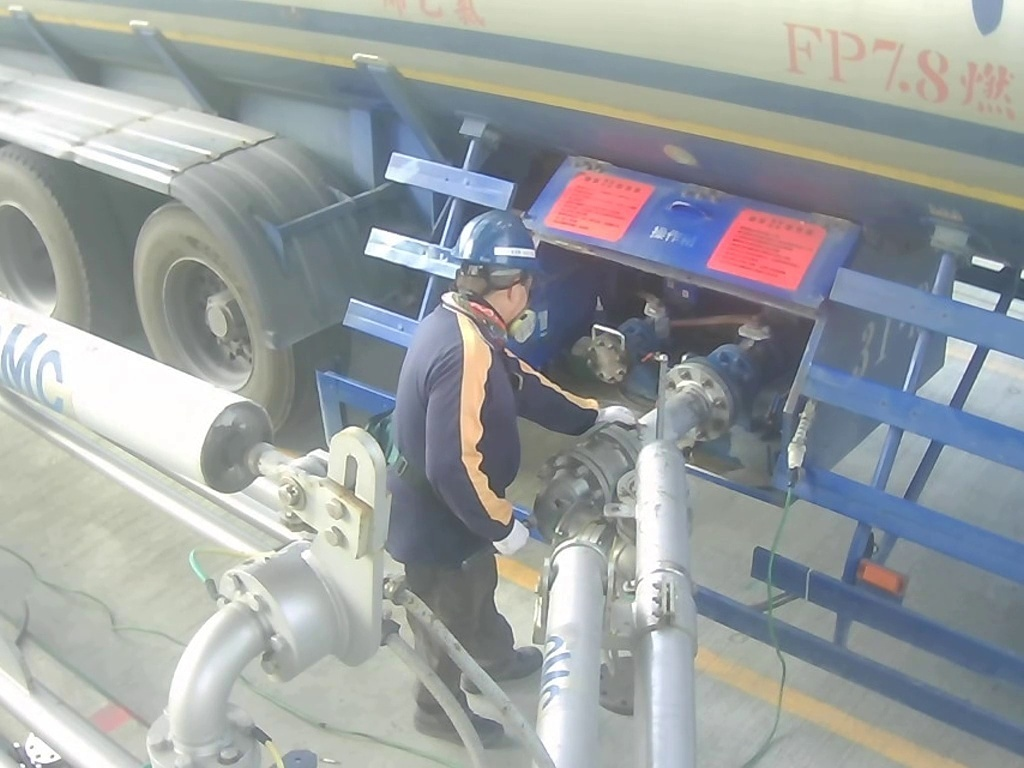helmet: (448, 204, 557, 348)
mask: (498, 305, 542, 346)
pack: (367, 409, 405, 473)
person: (368, 202, 587, 756)
